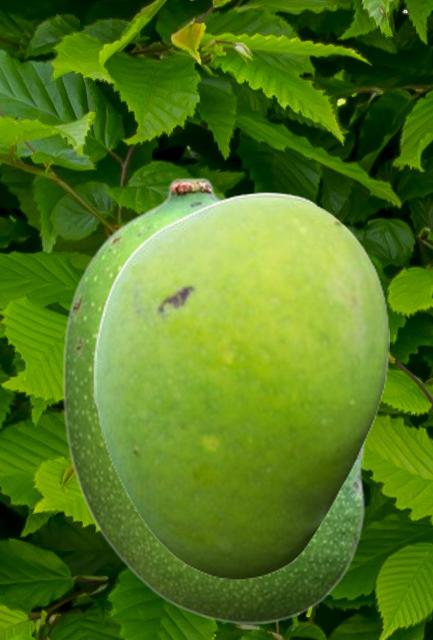green_mango: (61, 176, 368, 624), (92, 191, 388, 579)
